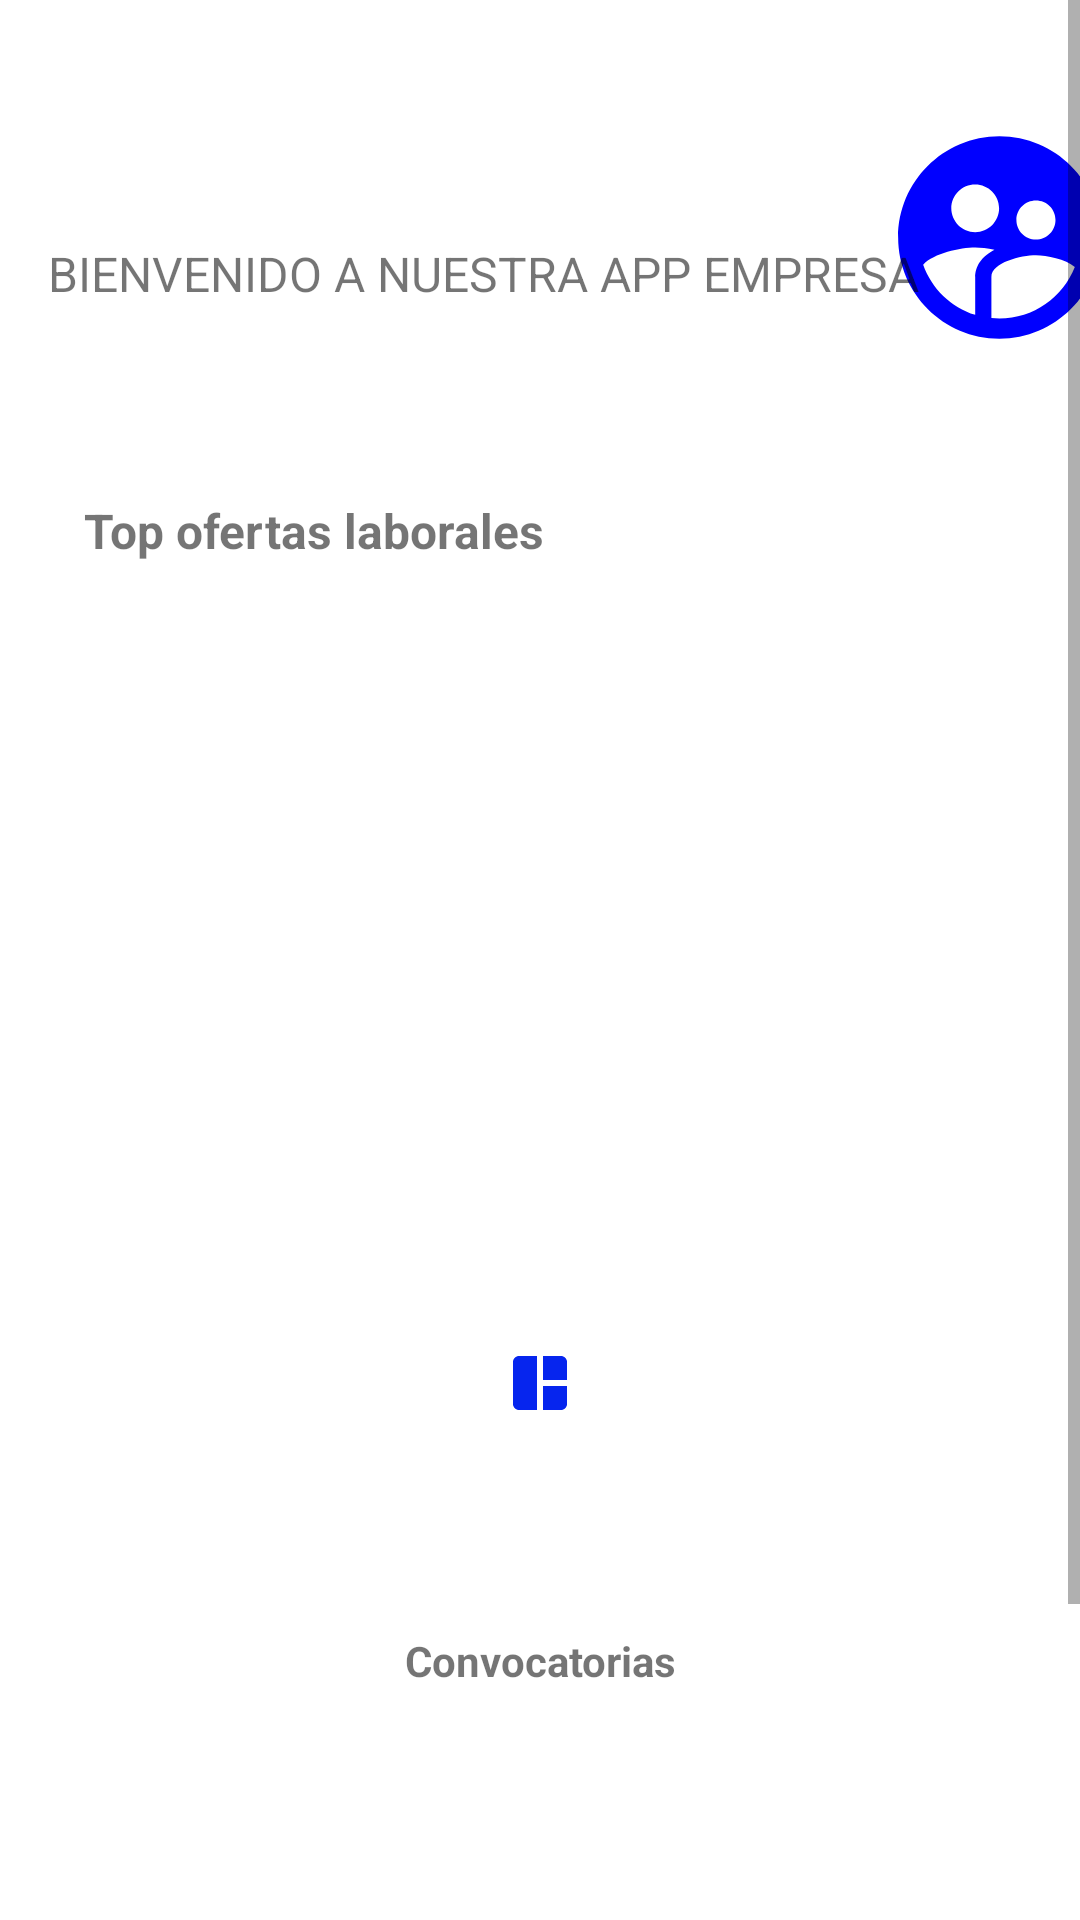

Icons on this 1080×1920 Android screen, each with the point to tap as point (x, y):
auto awesome mosaic: point (540, 1383)
